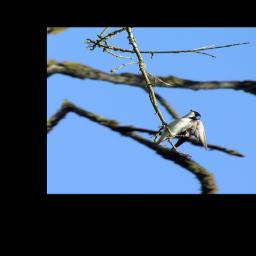Swallow: (140, 108, 215, 156)
